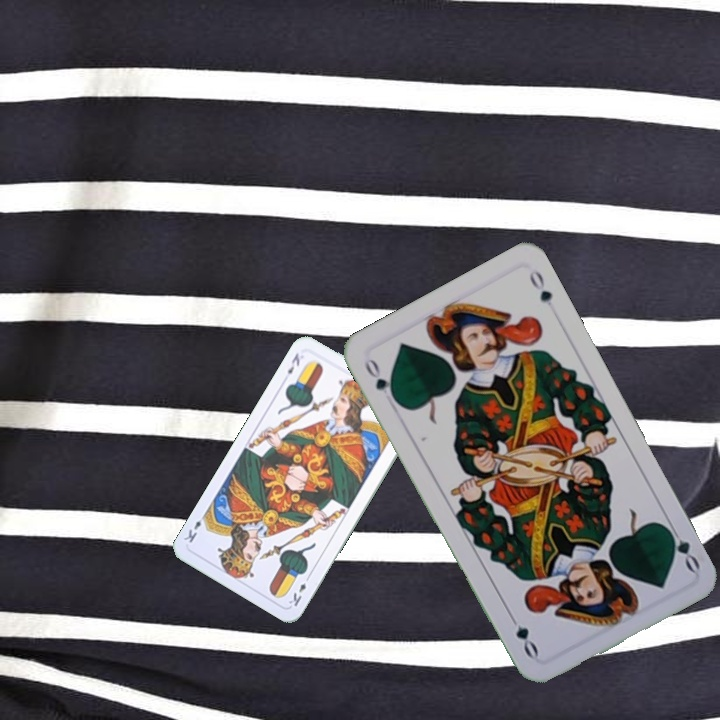EK: (284, 571, 313, 609), (283, 349, 302, 376)
GO: (661, 519, 703, 575), (360, 353, 400, 405)
